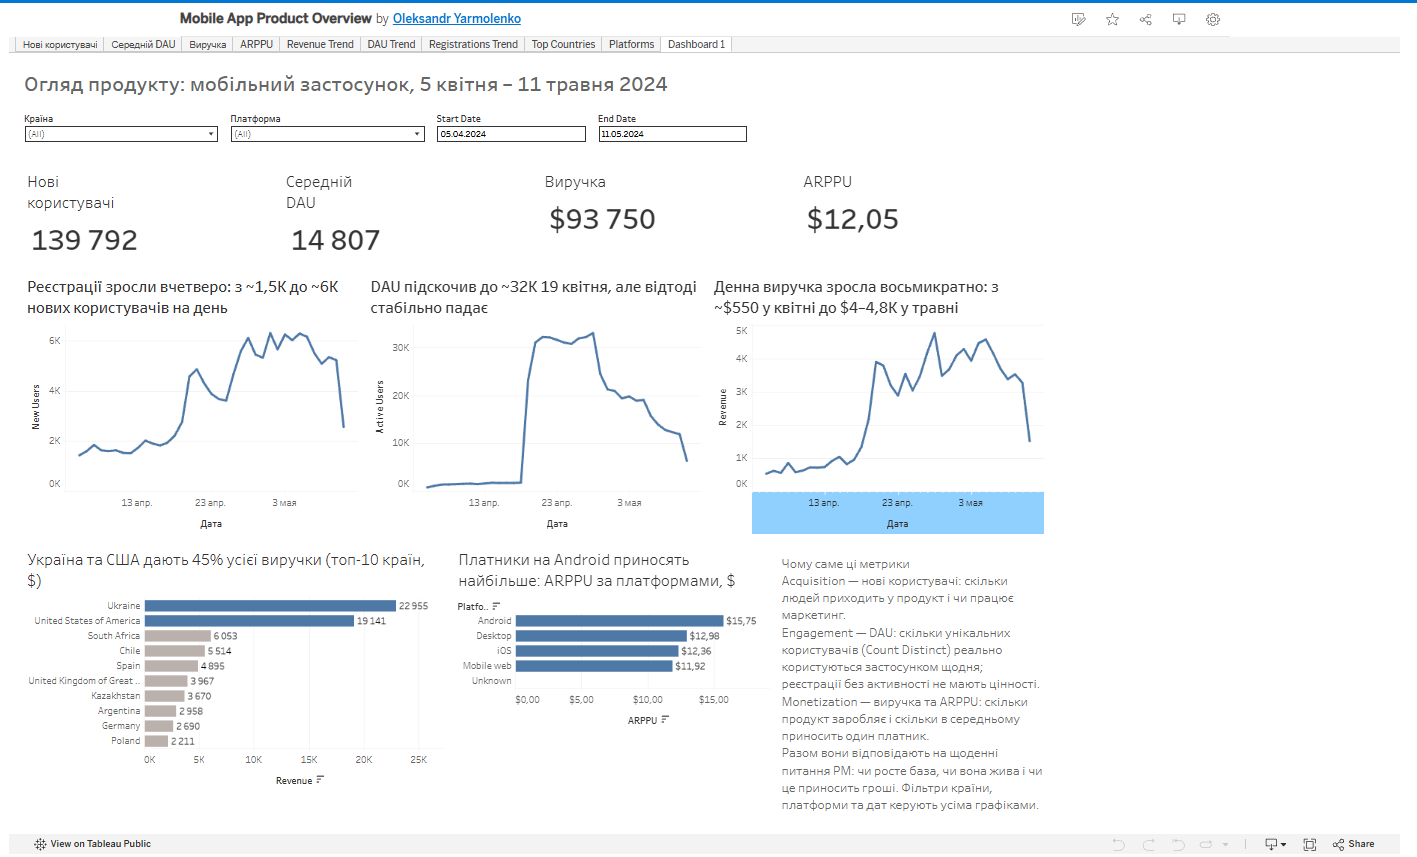

The page's visual inventory and layout, read from the dashboard file:
{"tool":"tableau","page":{"name":"Dashboard 1","canvas":[1400,1040],"ordinal":0},"visuals":[{"type":"text","box":[20,15,1360,50]},{"type":"filter","title":"Revenue Trend","param":"[federated.07d5e3a0u5ut9e158hxvb17z6gy1].[none:country_name:nk]","box":[20,78,260,55]},{"type":"filter","title":"Revenue Trend","param":"[federated.07d5e3a0u5ut9e158hxvb17z6gy1].[none:Calculation_0014697506746456:nk]","box":[295,78,260,55]},{"type":"parameter","param":"[Parameters].[Parameter 0014697505718349]","box":[570,78,200,55]},{"type":"parameter","param":"[Parameters].[Parameter 0014697505947726]","box":[785,78,200,55]},{"type":"worksheet","title":"Нові користувачі","mark":"Automatic","box":[20,150,330,125]},{"type":"worksheet","title":"Середній DAU","mark":"Automatic","box":[365,150,330,125]},{"type":"worksheet","title":"Виручка","mark":"Automatic","box":[710,150,330,125]},{"type":"worksheet","title":"ARPPU","mark":"Automatic","box":[1055,150,325,125]},{"type":"worksheet","title":"Registrations Trend","mark":"Automatic","rows":["Calculation_0014697506148431"],"cols":["Calculation_0014422631391320"],"box":[20,290,445,350]},{"type":"worksheet","title":"DAU Trend","mark":"Automatic","rows":["Calculation_0014697506496595"],"cols":["session_date"],"box":[478,290,445,350]},{"type":"worksheet","title":"Revenue Trend","mark":"Automatic","rows":["Calculation_0014697506336848"],"cols":["pay_date"],"box":[936,290,444,350]},{"type":"worksheet","title":"Top Countries","mark":"Automatic","rows":["country_name"],"cols":["Calculation_0014697506336848"],"box":[20,655,560,370]},{"type":"worksheet","title":"Platforms","mark":"Automatic","rows":["Calculation_0014697506746456"],"cols":["Calculation_0014697506463826"],"box":[595,655,420,370]},{"type":"text","box":[1030,665,350,350]}]}

Visuals, with their boxes on the page's 1400x1040 design canvas (x1, y1, x2, y2). These are canvas units, not pixel positions in the 1417x857 screenshot, which may show the page scaled, cropped or inside an application window:
text: [20,15,1380,65]
"Revenue Trend" filter: [20,78,280,133]
"Revenue Trend" filter: [295,78,555,133]
parameter: [570,78,770,133]
parameter: [785,78,985,133]
"Нові користувачі" worksheet: [20,150,350,275]
"Середній DAU" worksheet: [365,150,695,275]
"Виручка" worksheet: [710,150,1040,275]
"ARPPU" worksheet: [1055,150,1380,275]
"Registrations Trend" worksheet: [20,290,465,640]
"DAU Trend" worksheet: [478,290,923,640]
"Revenue Trend" worksheet: [936,290,1380,640]
"Top Countries" worksheet: [20,655,580,1025]
"Platforms" worksheet: [595,655,1015,1025]
text: [1030,665,1380,1015]
